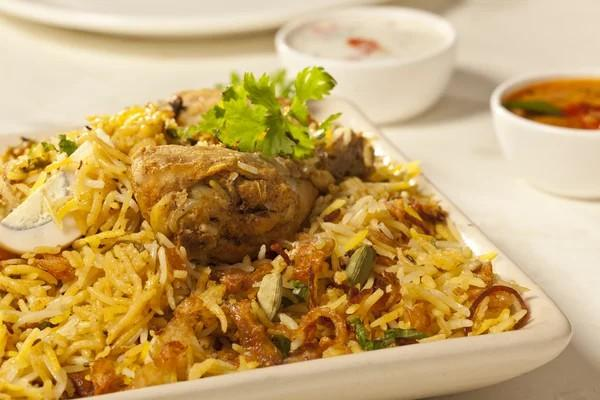Biryani: (0, 68, 535, 400), (0, 65, 0, 69)
